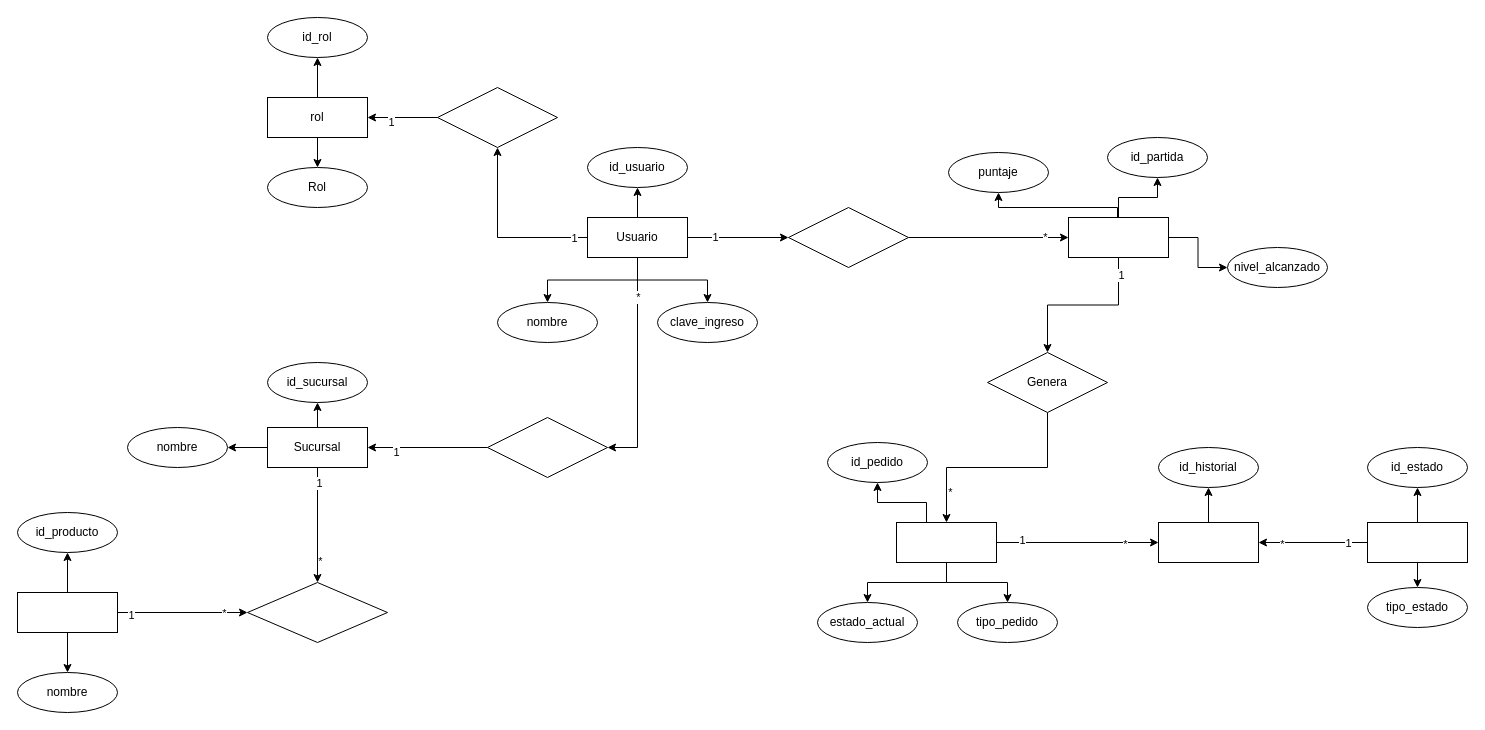
This 1485x730 diagram has some shape labels left out. Here are the shapes that lost their labels. From the top down, the centre of each, then its label:
At (x=497, y=117): "Tiene".
At (x=848, y=237): "Realiza".
At (x=1118, y=237): "Partida".
At (x=547, y=447): "Trabaja en".
At (x=946, y=542): "Pedido".
At (x=1208, y=542): "Historial_Estado".
At (x=1417, y=542): "Estado".
At (x=67, y=612): "Producto".
At (x=317, y=612): "Sucursal_Producto".
